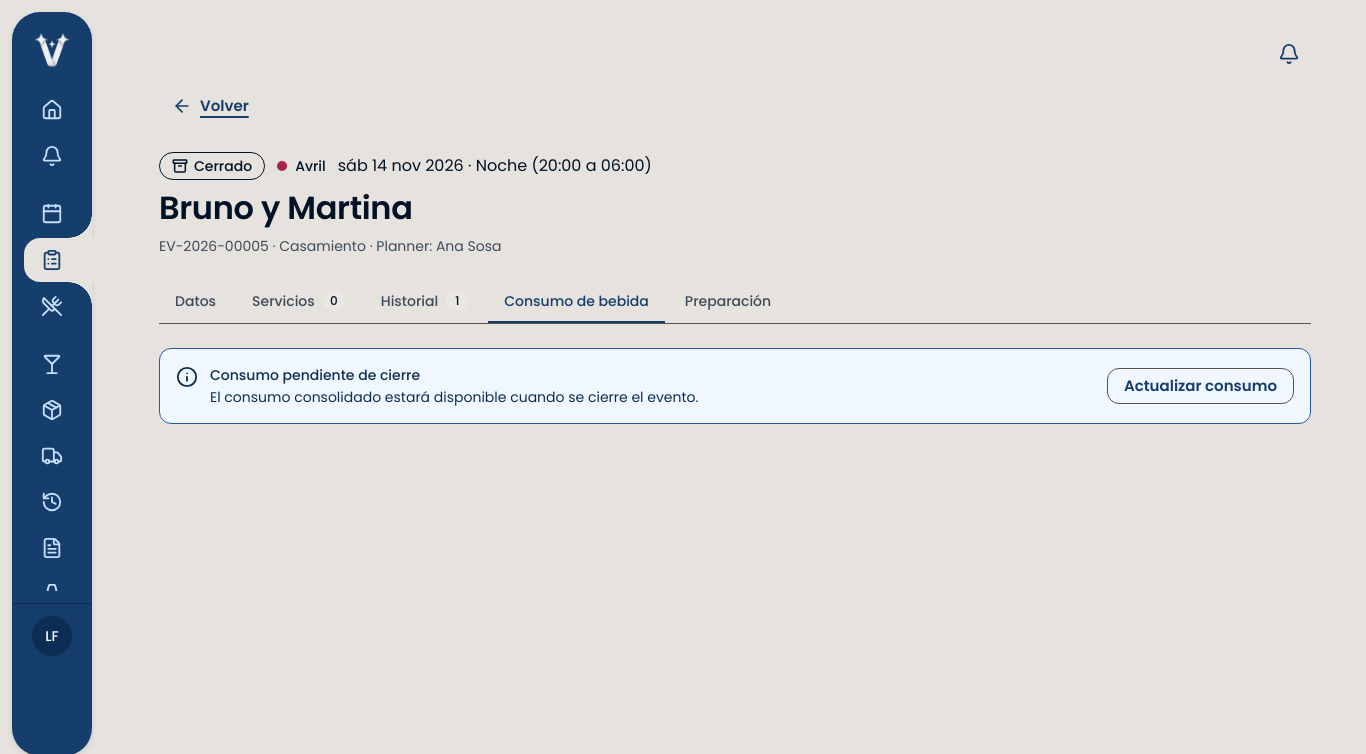
Test case: distingue falta de cierre de consumo cero y permite actualizar
expect the text "Consumo pendiente de cierre" is shown: met, box [210,365,420,385]
Click the button "Actualizar consumo" at (1200, 386), box [1107,368,1294,404]
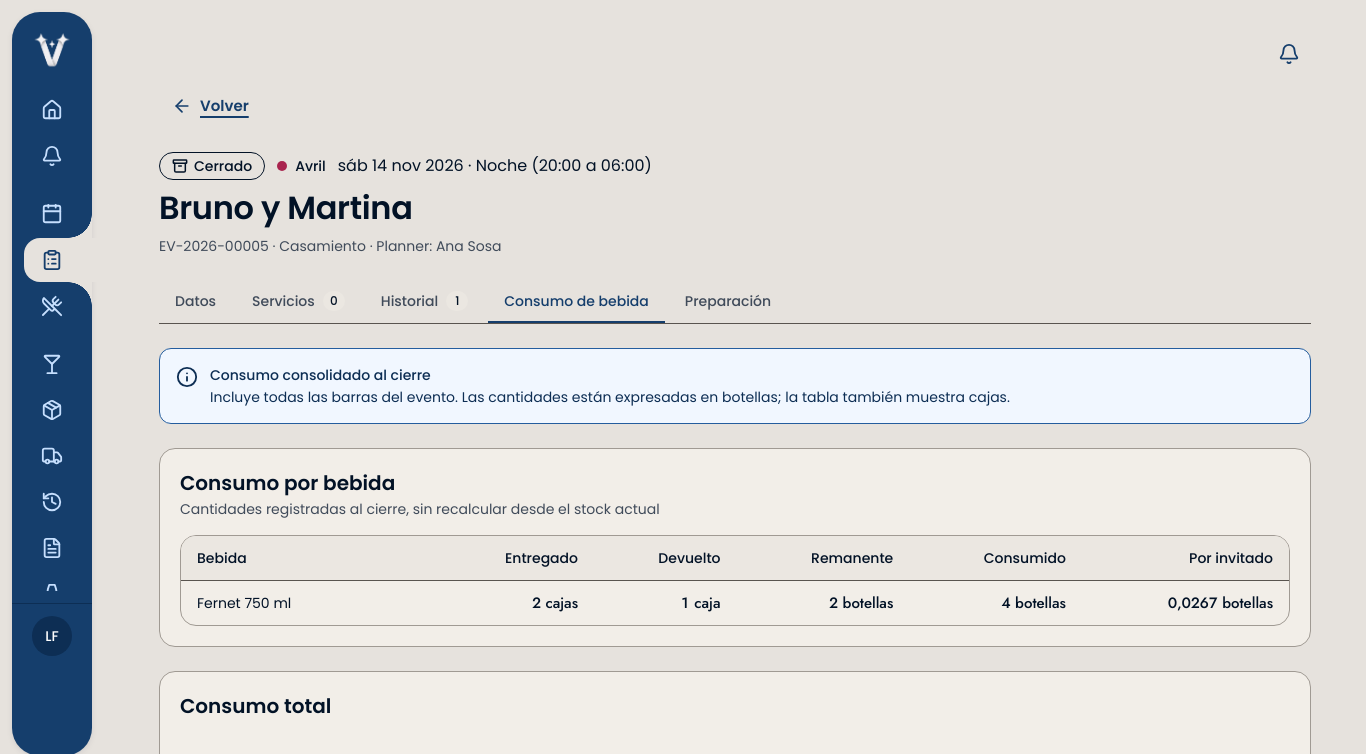
expect the table named "Consumo por bebida" is shown: met, box [181,536,1289,625]
